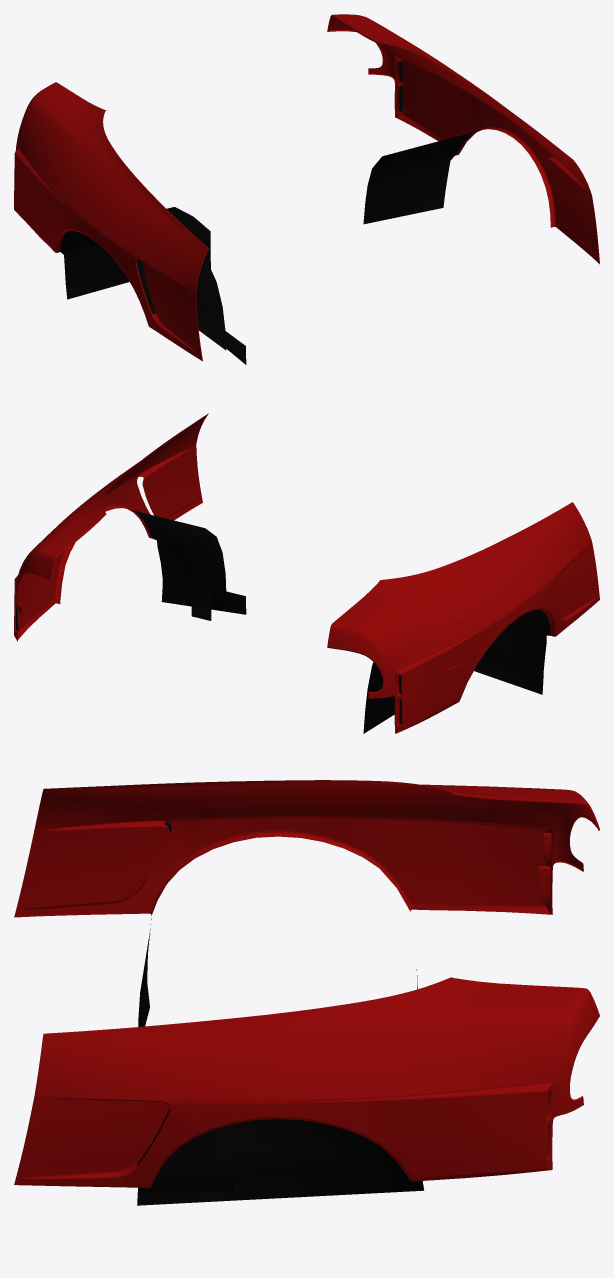
Rendered from rearfenders_carmodifywonderglare.glb.
3 renders of one model, top to bottom at view 1: azimuth 30°, elevation 25°; view 2: azimuth 150°, elevation 25°; view 3: azimuth 270°, elevation 25°, orthographic. The views are drawn at different scales.
Parts seen in each view (by area): view 1: Fenders, Undercarriage; view 2: Fenders, Undercarriage; view 3: Fenders, Undercarriage.
Part boxes in pixels (bbox=[...]): Fenders: bbox=[14, 14, 599, 361]; Undercarriage: bbox=[60, 130, 478, 364]; Fenders: bbox=[14, 413, 599, 733]; Undercarriage: bbox=[131, 510, 550, 733]; Fenders: bbox=[14, 780, 599, 1187]; Undercarriage: bbox=[137, 918, 424, 1205].
Bounding box in the file's own units: 1.8 × 0.7369 × 1.56.
